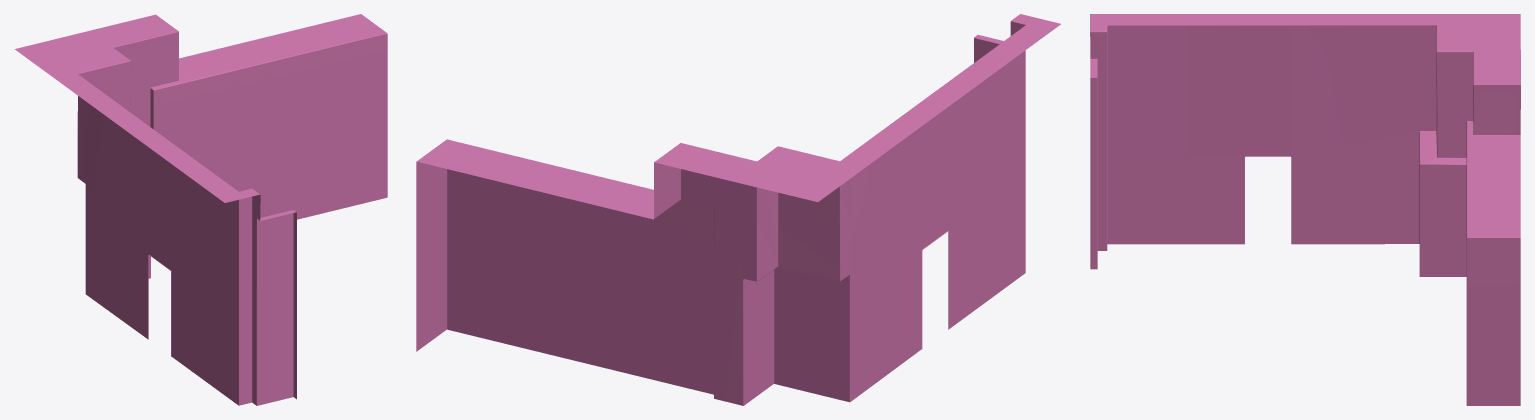
File: S_InnerWall_01.fbx
The picture shows the model from 3 angles, left to right: view 1: azimuth 30°, elevation 25°; view 2: azimuth 150°, elevation 25°; view 3: azimuth 270°, elevation 25°; orthographic projection. The views are drawn at different scales.
Visible parts, largest first — view 1: S_InnerWall_01; view 2: S_InnerWall_01; view 3: S_InnerWall_01.
Boxes of the visible parts, x1=… form: S_InnerWall_01: x1=14, y1=14, x2=387, y2=405; S_InnerWall_01: x1=416, y1=14, x2=1060, y2=405; S_InnerWall_01: x1=1090, y1=14, x2=1520, y2=405.
Bounding box in the file's own units: 874 × 516 × 918.
